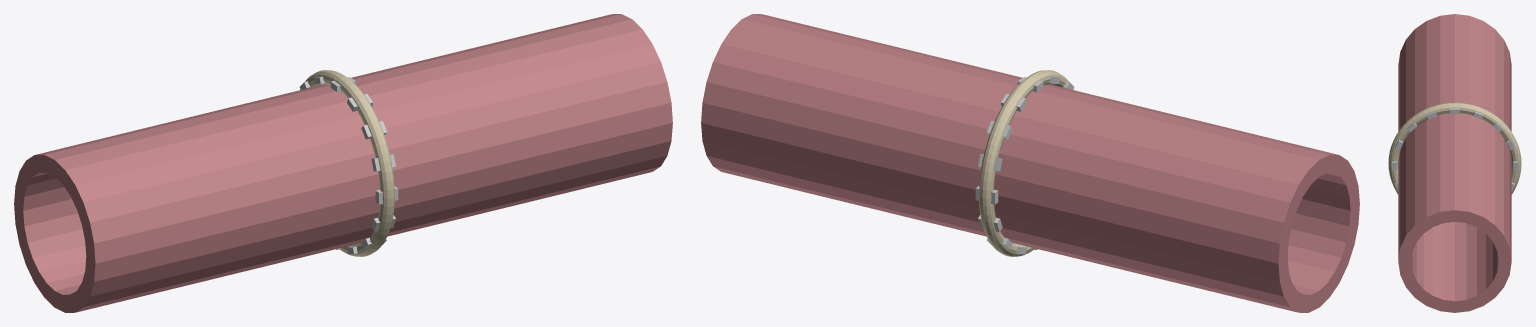
File: dranmar_rescue_bowel_repaired.glb
The picture shows the model from 3 angles, left to right: view 1: azimuth 30°, elevation 25°; view 2: azimuth 150°, elevation 25°; view 3: azimuth 270°, elevation 25°; orthographic projection. The views are drawn at different scales.
Parts seen in each view (by area): view 1: Proximal, Distal, ReinforcementCollar; view 2: Proximal, Distal, ReinforcementCollar; view 3: Distal, Proximal, ReinforcementCollar.
Part boxes in pixels (x1=…): Proximal: x1=14, y1=84, x2=379, y2=312; Distal: x1=351, y1=14, x2=672, y2=236; ReinforcementCollar: x1=300, y1=70, x2=394, y2=256; Proximal: x1=994, y1=84, x2=1359, y2=312; Distal: x1=701, y1=14, x2=1022, y2=236; ReinforcementCollar: x1=979, y1=70, x2=1073, y2=256; Distal: x1=1398, y1=113, x2=1511, y2=312; Proximal: x1=1398, y1=14, x2=1511, y2=131; ReinforcementCollar: x1=1388, y1=102, x2=1521, y2=194.
Bounding box in the file's own units: 0.18 × 0.0516 × 0.0516.
